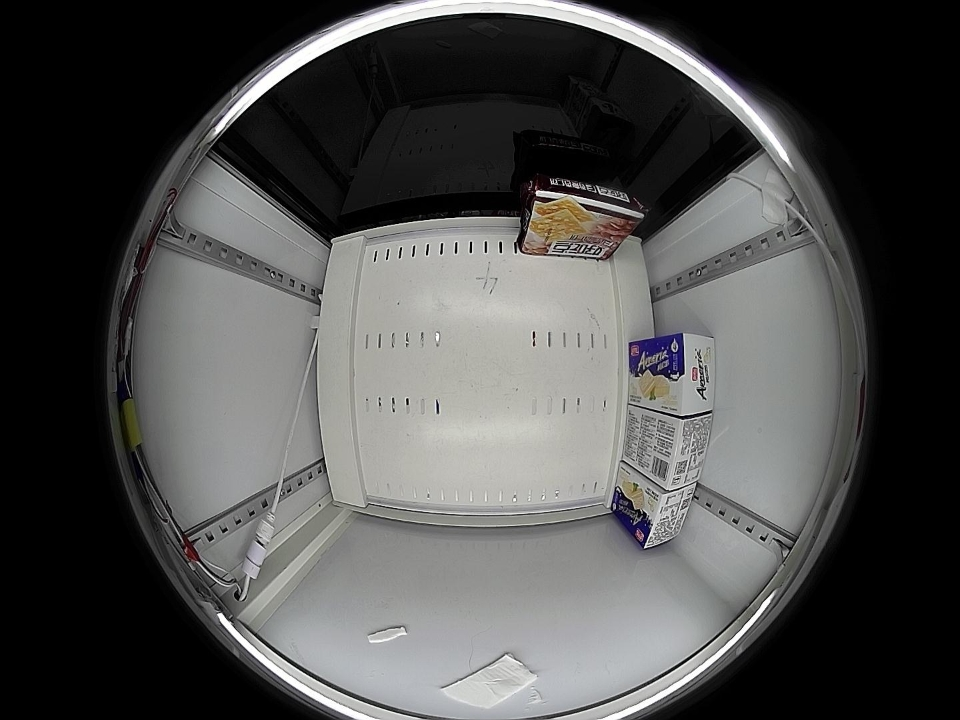haochidian: (518, 174, 644, 234)
meiniye: (647, 412, 713, 491), (655, 333, 715, 417), (632, 480, 698, 550)
